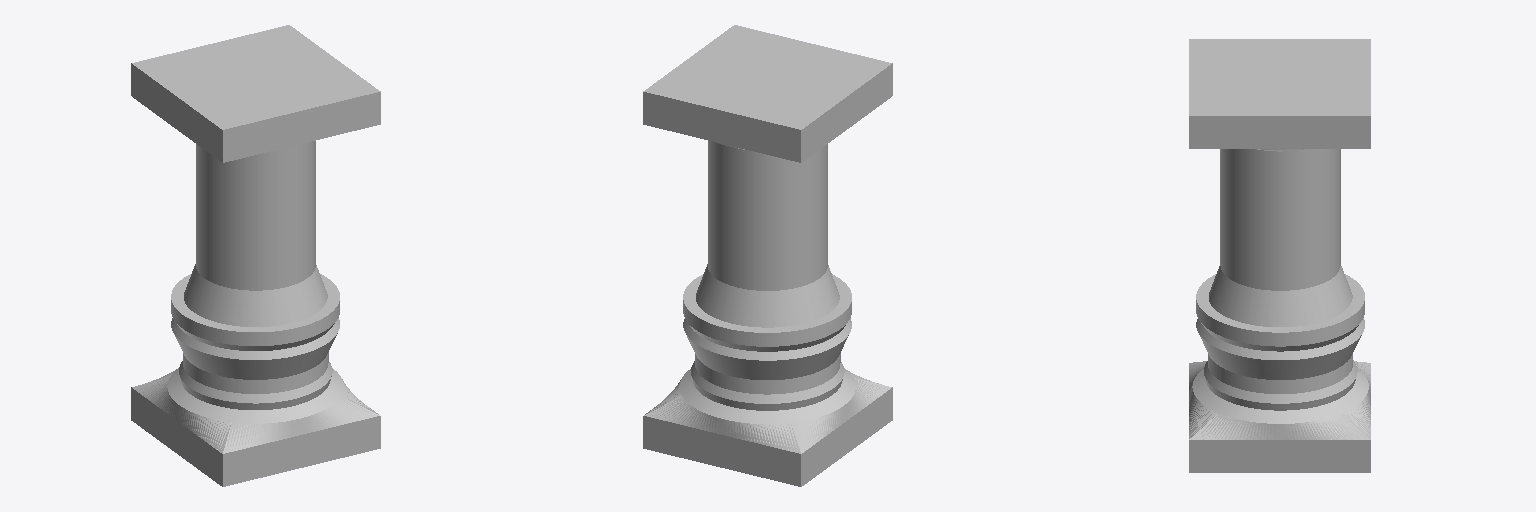
File: column.obj
The picture shows the model from 3 angles: view 1: azimuth 30°, elevation 25°; view 2: azimuth 150°, elevation 25°; view 3: azimuth 270°, elevation 25°; orthographic projection.
Visible parts, largest first — view 1: Cube.001_Cube.003; view 2: Cube.001_Cube.003; view 3: Cube.001_Cube.003.
Part boxes in pixels (bbox=[...]): Cube.001_Cube.003: bbox=[131, 25, 380, 486]; Cube.001_Cube.003: bbox=[643, 25, 892, 486]; Cube.001_Cube.003: bbox=[1189, 39, 1370, 472].
Size of the model in its own units: 2.5 by 5.4 by 2.5.